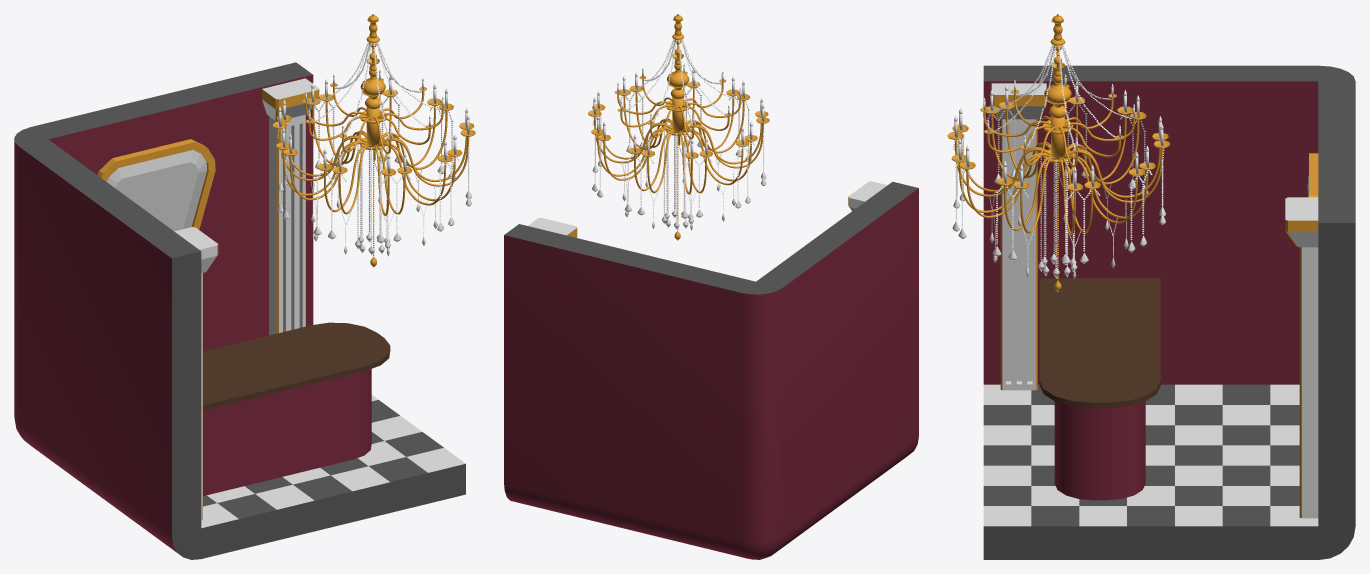
The model's file is bar_room.fbx.
3 renders of one model, left to right at view 1: azimuth 30°, elevation 25°; view 2: azimuth 150°, elevation 25°; view 3: azimuth 270°, elevation 25°, orthographic. The views are drawn at different scales.
Parts seen in each view (by area): view 1: Bar_Room, Bar, Branch, Colonne0, Mirror, Center, Colonne2; view 2: Bar_Room, Branch, Center, Colonne2, Colonne0; view 3: Bar_Room, Bar, Branch, Colonne2, Colonne0, Center.
Part boxes in pixels (bbox=[...]): Bar_Room: bbox=[14, 62, 465, 559]; Bar: bbox=[203, 322, 390, 495]; Branch: bbox=[272, 41, 475, 256]; Colonne0: bbox=[262, 78, 319, 335]; Mirror: bbox=[97, 139, 215, 231]; Center: bbox=[359, 14, 387, 267]; Colonne2: bbox=[174, 227, 218, 520]; Bar_Room: bbox=[504, 181, 918, 559]; Branch: bbox=[588, 38, 769, 230]; Center: bbox=[665, 14, 690, 240]; Colonne2: bbox=[848, 181, 887, 210]; Colonne0: bbox=[528, 217, 577, 237]; Bar_Room: bbox=[983, 65, 1355, 559]; Bar: bbox=[1039, 278, 1160, 500]; Branch: bbox=[947, 44, 1169, 279]; Colonne2: bbox=[991, 83, 1046, 390]; Colonne0: bbox=[1285, 197, 1318, 518]; Center: bbox=[1042, 14, 1073, 291].
Size of the model in its own units: 220 by 305 by 219.
